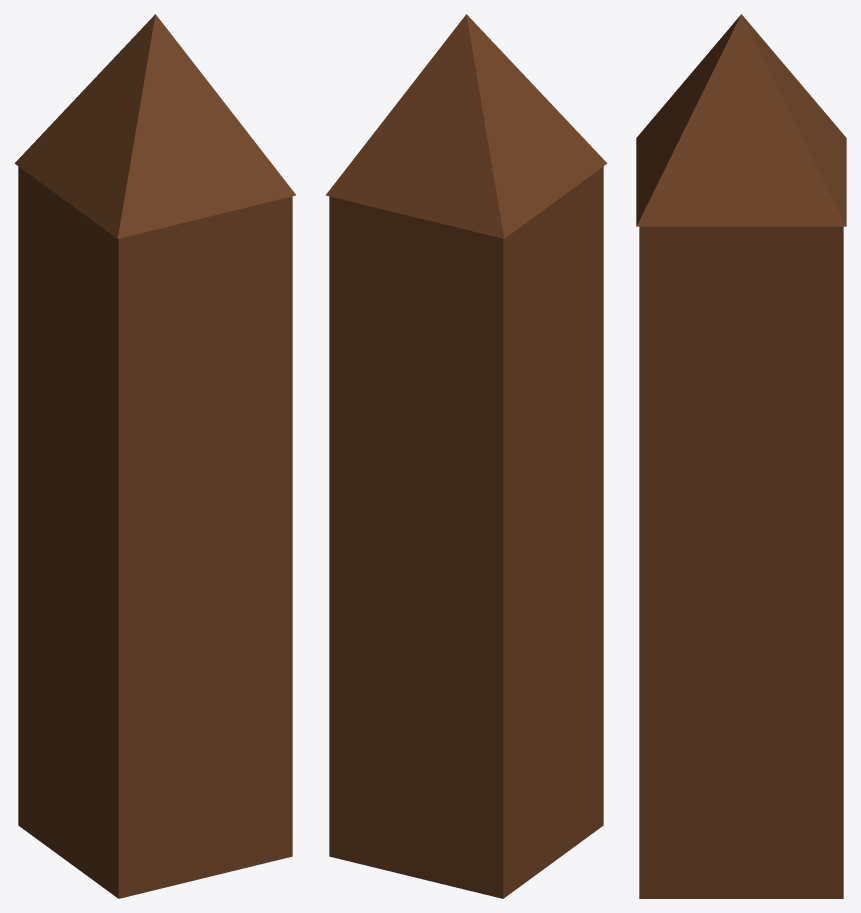
The model's file is biome-orchard-fencePost.glb.
The picture shows the model from 3 angles, left to right: view 1: azimuth 30°, elevation 25°; view 2: azimuth 150°, elevation 25°; view 3: azimuth 270°, elevation 25°; orthographic projection.
Size of the model in its own units: 0.2263 by 1 by 0.2263.
